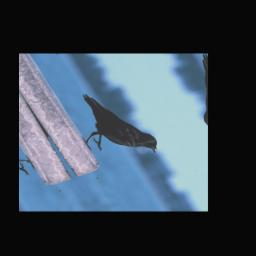Crow: (58, 80, 165, 172)
